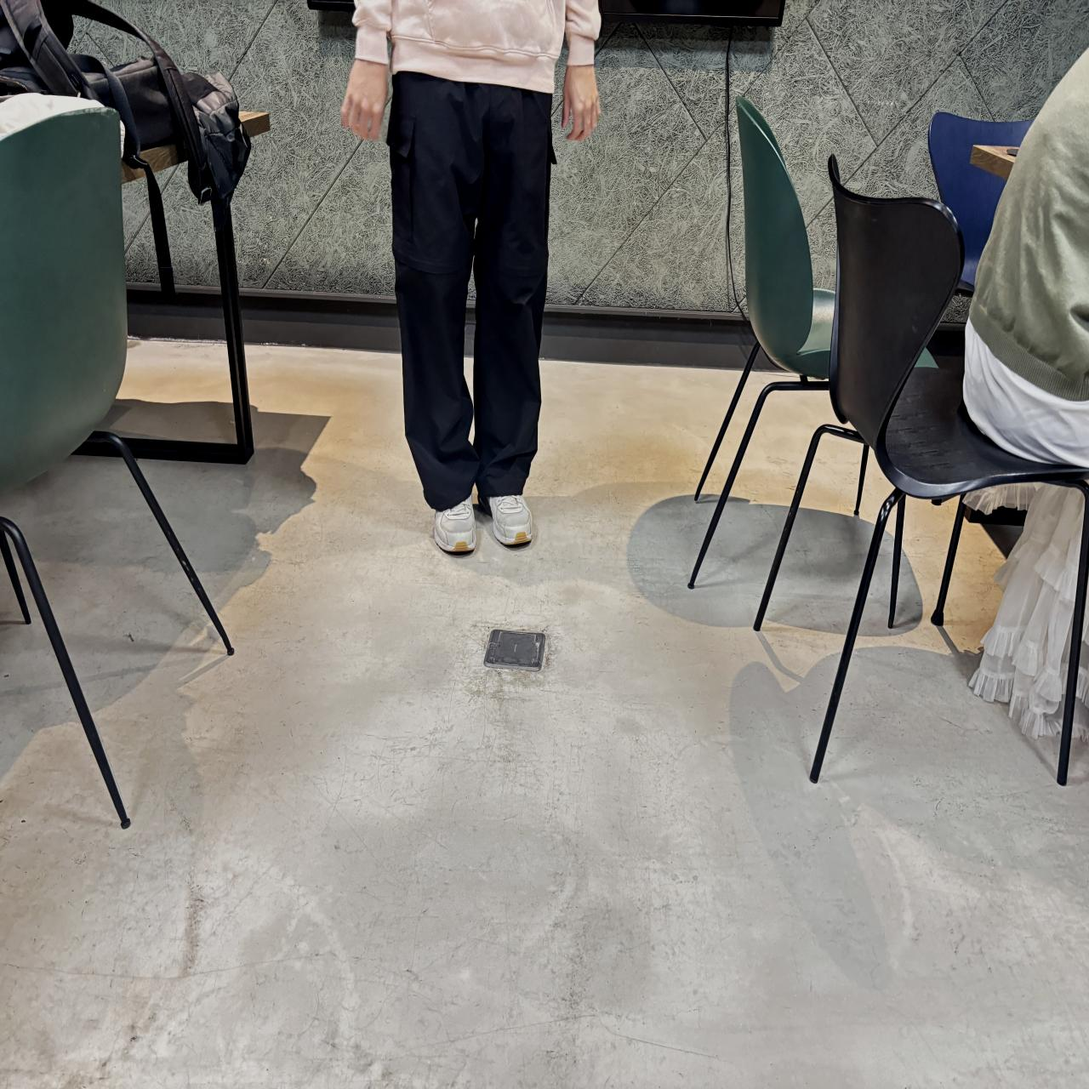person: (343, 0, 600, 552), (961, 49, 1089, 740)
